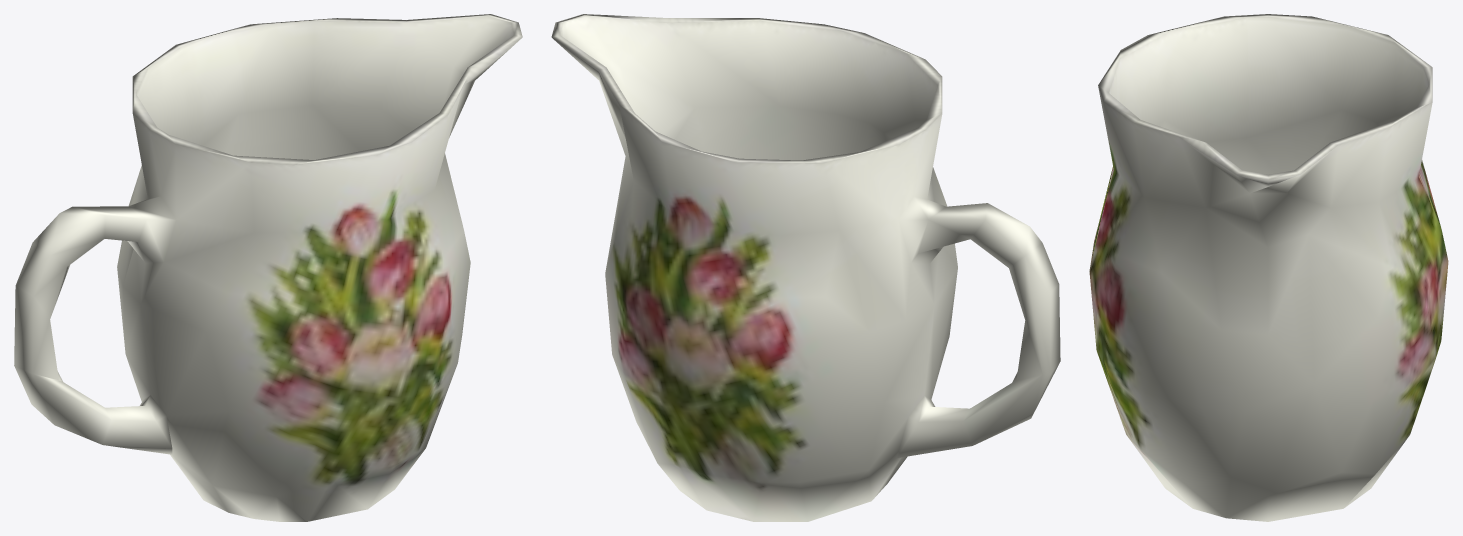
File: jug_01.glb
3 views of the same model, side by side, from view 1: azimuth 30°, elevation 25°; view 2: azimuth 150°, elevation 25°; view 3: azimuth 270°, elevation 25° (orthographic).
Visible parts, largest first — view 1: jug_01; view 2: jug_01; view 3: jug_01.
Boxes of the visible parts, x1,y1,x2,y2 form: jug_01: (14, 14, 522, 521); jug_01: (551, 14, 1060, 521); jug_01: (1089, 14, 1448, 521).
Size of the model in its own units: 0.2732 by 0.2103 by 0.1668.
Materials: 1 (1 with a texture image).
